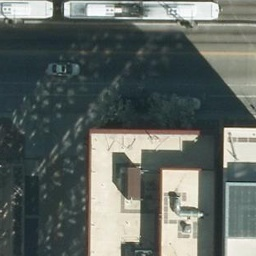car: (169, 92, 201, 113), (46, 63, 78, 75)
